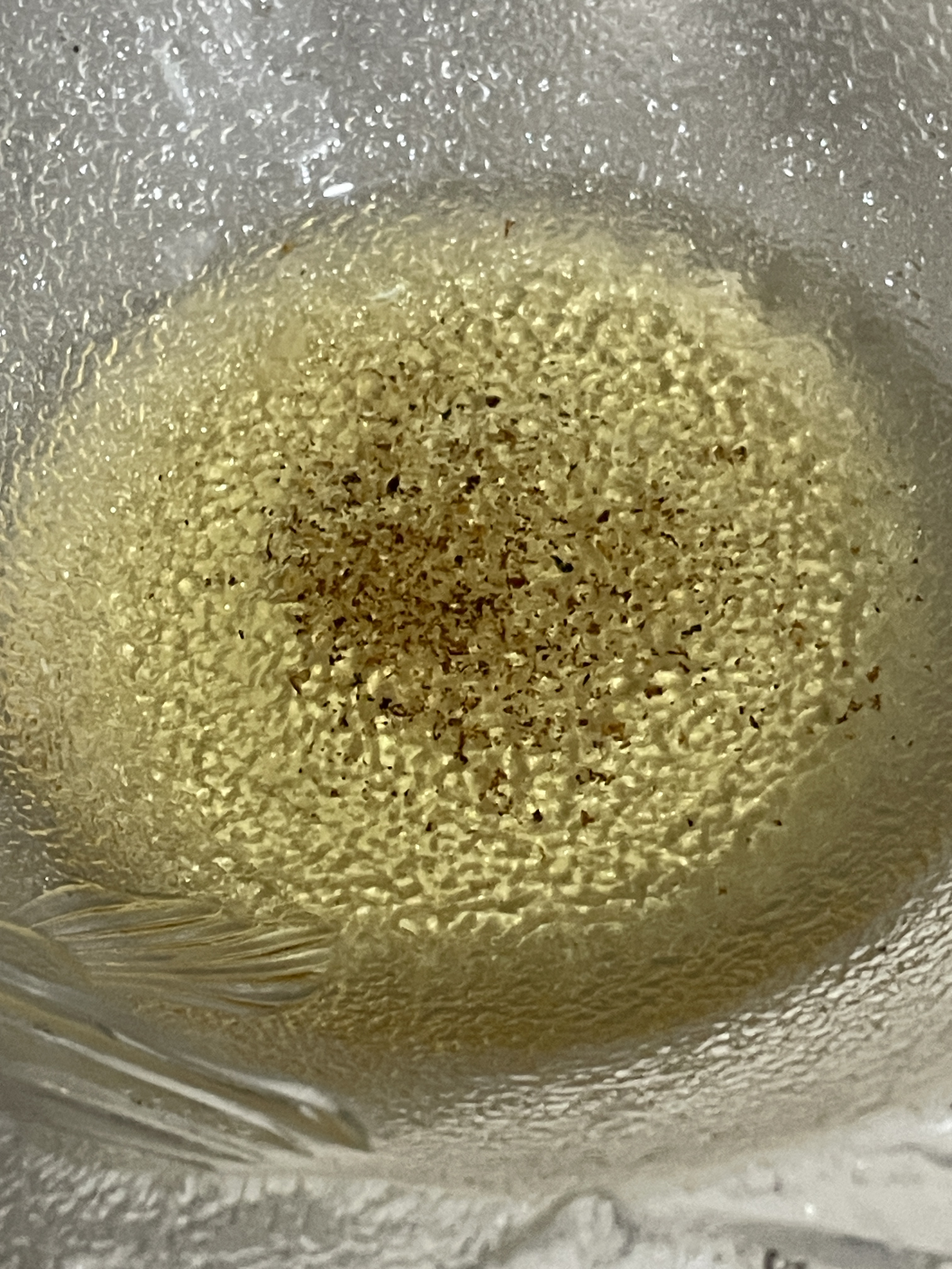reusable: (0, 217, 952, 1051)
